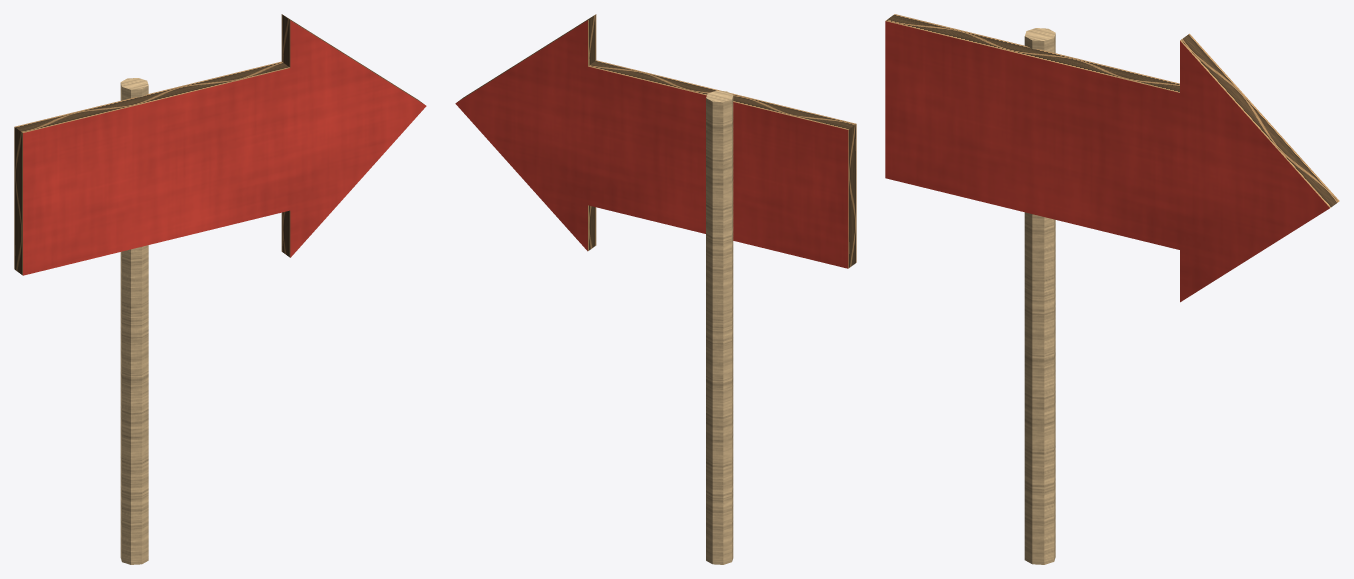
File: sign_arrow.gltf
3 views of the same model, side by side, from view 1: azimuth 30°, elevation 25°; view 2: azimuth 150°, elevation 25°; view 3: azimuth 330°, elevation 25° (orthographic). The views are drawn at different scales.
Visible parts, largest first — view 1: sign_arrow; view 2: sign_arrow; view 3: sign_arrow.
Boxes of the visible parts, <box> form: sign_arrow: <box>14,14,426,564</box>; sign_arrow: <box>455,14,856,564</box>; sign_arrow: <box>885,14,1339,564</box>.
Bounding box in the file's own units: 0.8 × 0.975 × 0.075.
Materials: 3 (3 with a texture image).
